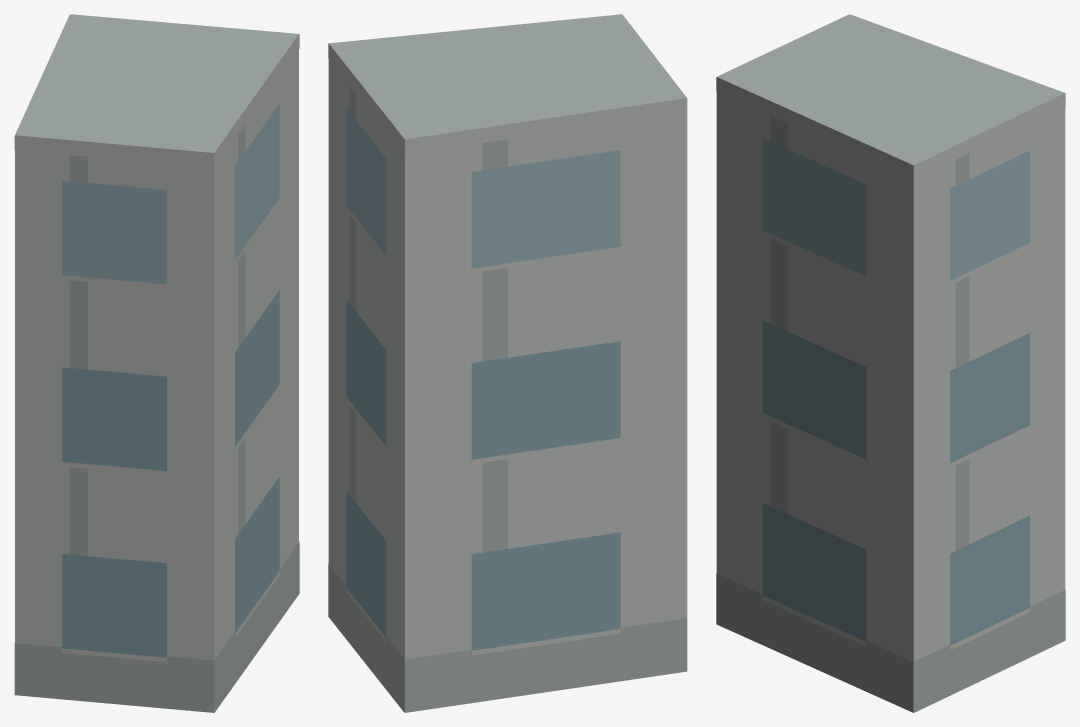
File: survey-upis-32626273.glb
3 renders of one model, left to right at view 1: azimuth 30°, elevation 25°; view 2: azimuth 150°, elevation 25°; view 3: azimuth 270°, elevation 25°, orthographic. The views are drawn at different scales.
Visible parts, largest first — view 1: survey-upis-32626273.tmp; view 2: survey-upis-32626273.tmp; view 3: survey-upis-32626273.tmp.
Boxes of the visible parts, bbox=[...] form: survey-upis-32626273.tmp: bbox=[14, 14, 299, 712]; survey-upis-32626273.tmp: bbox=[328, 14, 687, 712]; survey-upis-32626273.tmp: bbox=[716, 14, 1065, 712].
Bounding box in the file's own units: 5.43 × 9.15 × 5.29.
